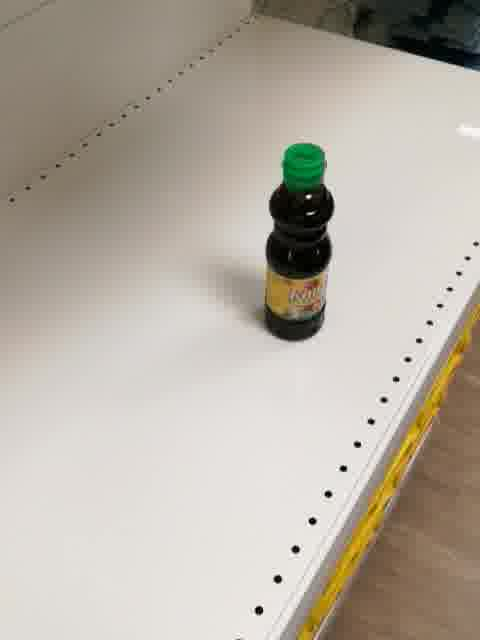cookingoil: (260, 139, 336, 343)
